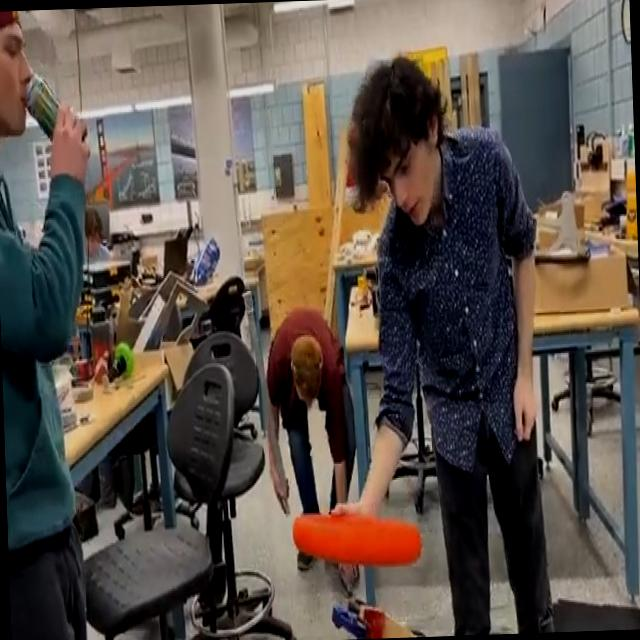note: (290, 501, 426, 576)
